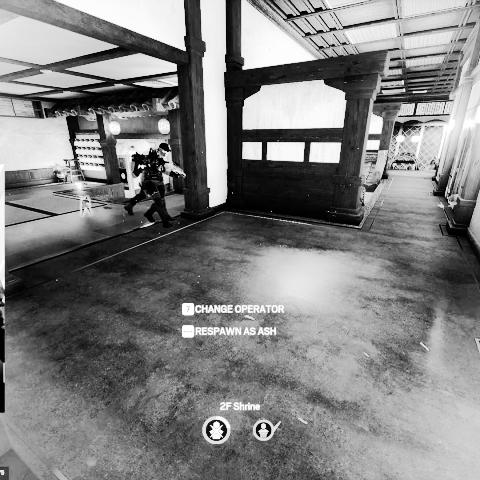Character: (124, 142, 187, 215), (130, 139, 173, 229), (429, 153, 440, 171)
Head: (136, 139, 152, 156), (158, 143, 172, 158), (434, 154, 439, 160)
